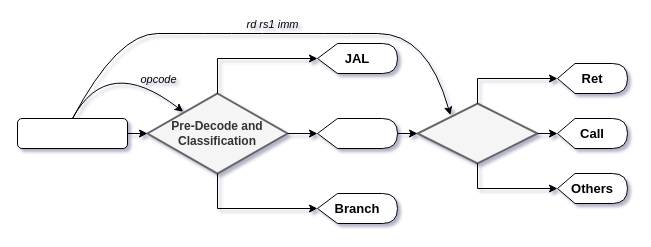
The diagram is 651 pixels wide and 247 high, and some of its shapes have lost their labels. The shapes that lost their labels are listed below. From the top down, each one's centre as x and y in pixels, then its label:
point 72,133: Instruction
point 357,133: JALR
point 477,133: JALR Classification
